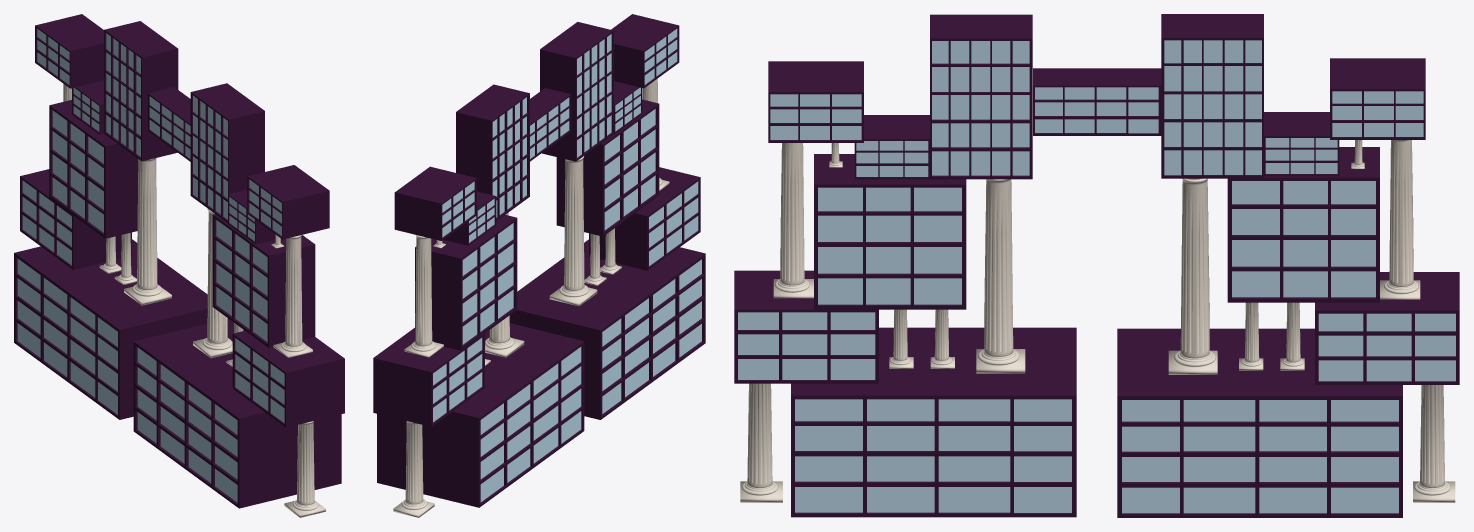
Rendered from modern_roman_building.fbx.
The picture shows the model from 3 angles, left to right: view 1: azimuth 30°, elevation 25°; view 2: azimuth 150°, elevation 25°; view 3: azimuth 270°, elevation 25°; orthographic projection. The views are drawn at different scales.
Visible parts, largest first — view 1: Cube.017, Cube.024, Cube.015, Cube.022, Cube.016, Cube.010, Cube.020, Cube.023, Cube.018, Cube.025, 3.009, Cube.019 (+7 smaller); view 2: Cube.024, Cube.017, Cube.022, Cube.015, Cube.020, Cube.023, Cube.010, Cube.016, Cube.025, Cube.018, 3.003, Cube.019 (+7 smaller); view 3: Cube.017, Cube.024, Cube.015, Cube.022, Cube.010, Cube.020, Cube.023, Cube.016, Cube.019, Cube.018, Cube.025, 3.009 (+11 smaller).
Boxes of the visible parts, left/top/right/bottom form: Cube.017: left=133, top=318, right=341, bottom=508; Cube.024: left=14, top=239, right=207, bottom=419; Cube.015: left=212, top=214, right=315, bottom=347; Cube.022: left=49, top=100, right=138, bottom=238; Cube.016: left=232, top=331, right=344, bottom=427; Cube.010: left=190, top=83, right=264, bottom=222; Cube.020: left=104, top=21, right=178, bottom=161; Cube.023: left=20, top=169, right=131, bottom=269; Cube.018: left=247, top=165, right=329, bottom=239; Cube.025: left=35, top=14, right=103, bottom=88; 3.009: left=124, top=158, right=171, bottom=305; Cube.019: left=148, top=87, right=190, bottom=161; Cube.024: left=377, top=323, right=584, bottom=507; Cube.017: left=509, top=239, right=705, bottom=419; Cube.022: left=415, top=215, right=517, bottom=350; Cube.015: left=556, top=99, right=659, bottom=236; Cube.020: left=456, top=84, right=529, bottom=220; Cube.023: left=373, top=328, right=484, bottom=426; Cube.010: left=540, top=22, right=613, bottom=161; Cube.016: left=589, top=167, right=700, bottom=270; Cube.025: left=394, top=166, right=476, bottom=240; Cube.018: left=611, top=14, right=679, bottom=88; 3.003: left=549, top=156, right=597, bottom=306; Cube.019: left=530, top=88, right=571, bottom=161; Cube.017: left=791, top=327, right=1076, bottom=517; Cube.024: left=1117, top=328, right=1402, bottom=517; Cube.015: left=814, top=154, right=966, bottom=309; Cube.022: left=1227, top=147, right=1379, bottom=302; Cube.010: left=930, top=14, right=1032, bottom=179; Cube.020: left=1161, top=14, right=1263, bottom=178; Cube.023: left=1315, top=272, right=1459, bottom=384; Cube.016: left=734, top=270, right=878, bottom=383; Cube.019: left=1033, top=68, right=1161, bottom=135; Cube.018: left=768, top=61, right=863, bottom=142; Cube.025: left=1330, top=58, right=1425, bottom=139; 3.009: left=1168, top=178, right=1217, bottom=374.
Bounding box in the file's own units: 3410 × 10918 × 15278.
